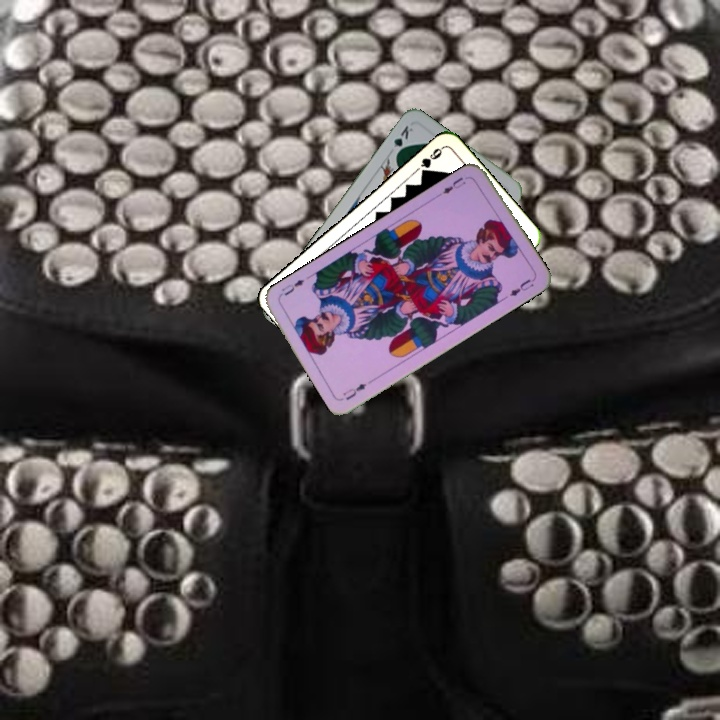EU: (339, 379, 369, 403), (439, 173, 468, 196)
G9: (416, 143, 446, 178)
GK: (388, 121, 416, 159)
